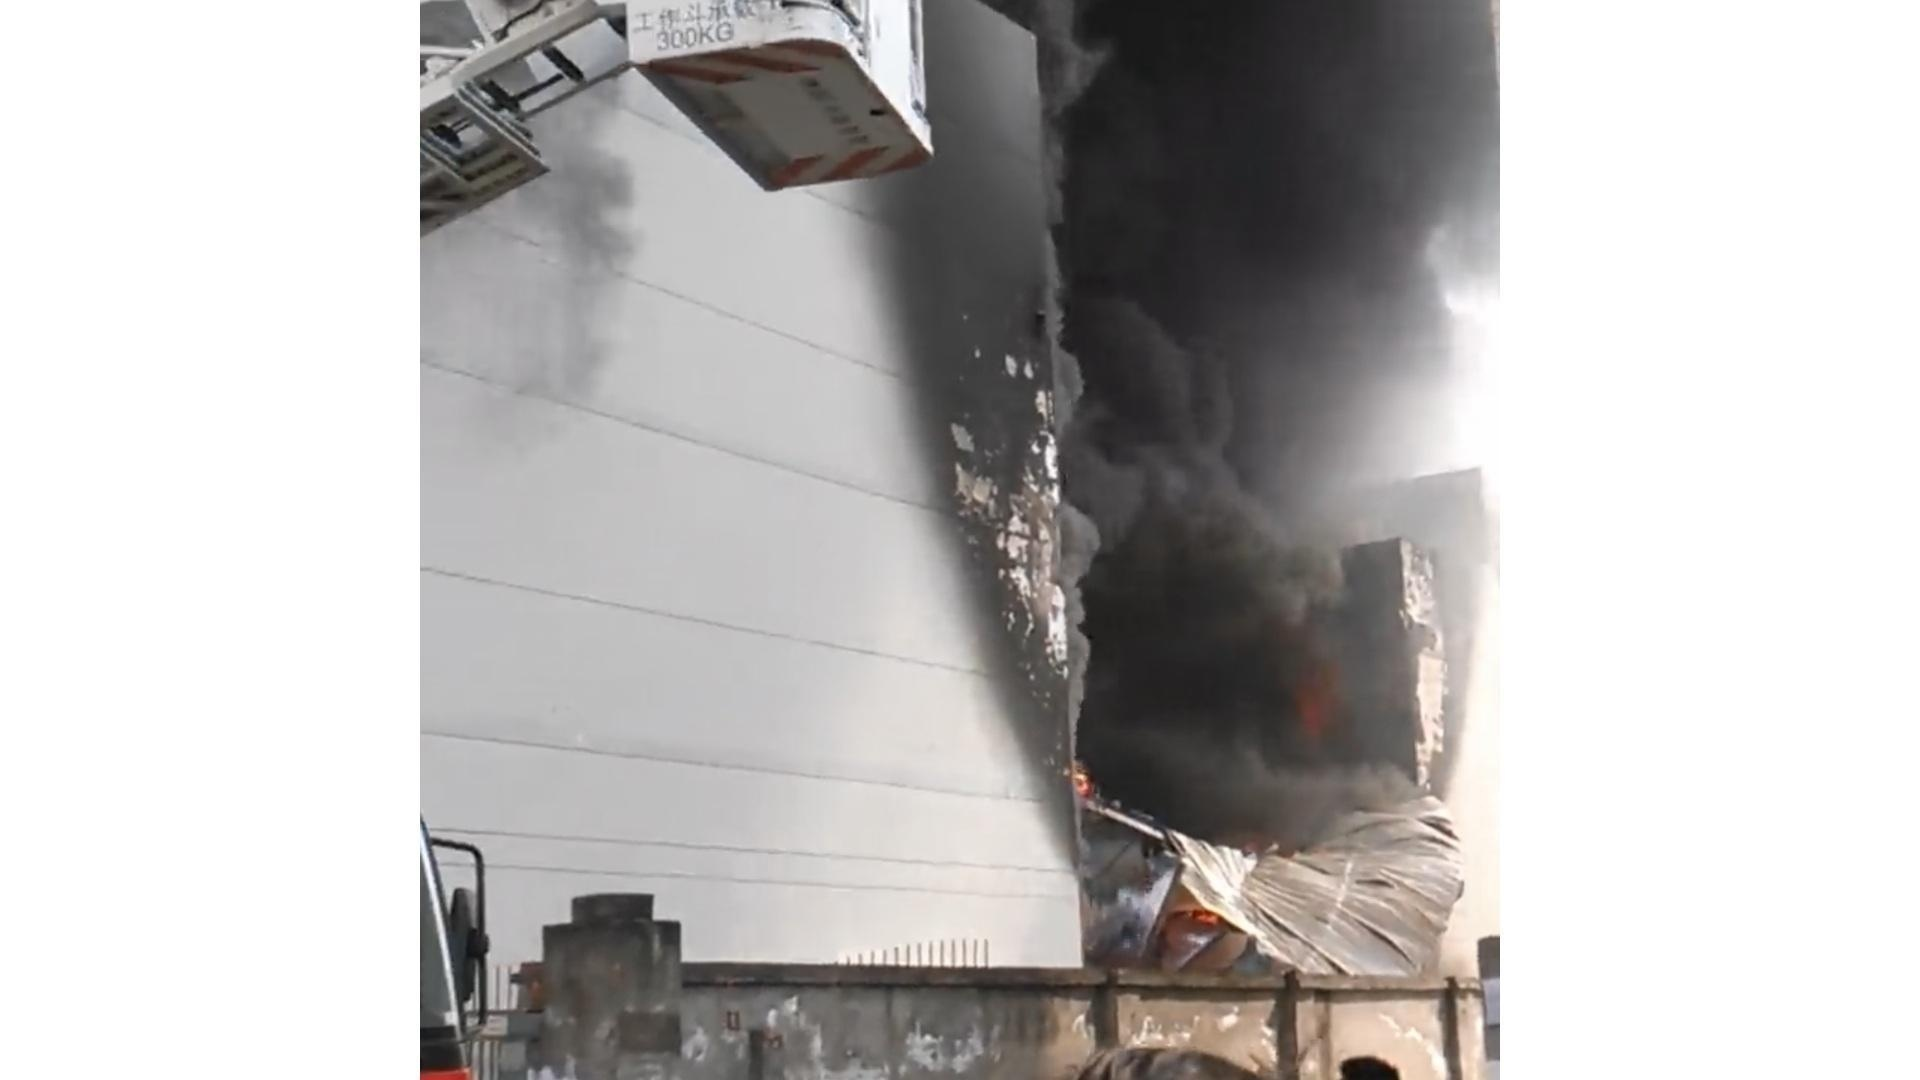fire: (1063, 756, 1101, 807)
